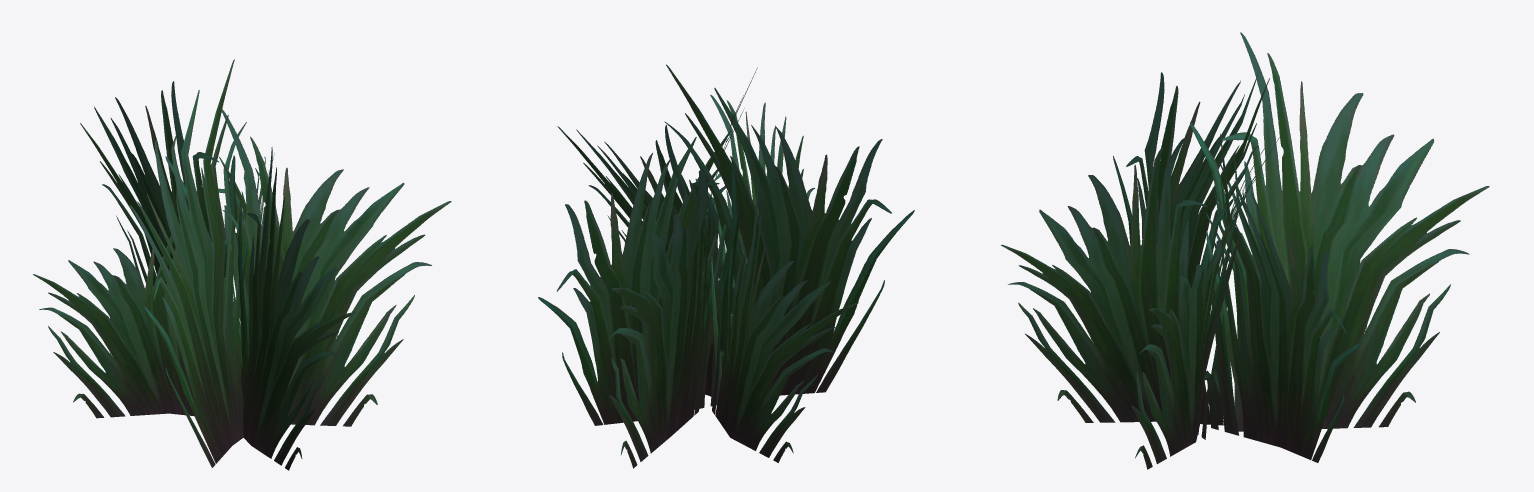
The model's file is sholazar_grassb.obj.
3 views of the same model, side by side, from view 1: azimuth 30°, elevation 25°; view 2: azimuth 150°, elevation 25°; view 3: azimuth 270°, elevation 25° (orthographic). The views are drawn at different scales.
Visible parts, largest first — view 1: sholazar_grassb; view 2: sholazar_grassb; view 3: sholazar_grassb.
Part boxes in pixels (box(x1,y1,x2,y2)): sholazar_grassb: box(33, 59, 451, 470); sholazar_grassb: box(538, 64, 914, 468); sholazar_grassb: box(1001, 32, 1489, 469).
Bounding box in the file's own units: 4.13 × 3.76 × 4.6.
1 material, 1 textured.
